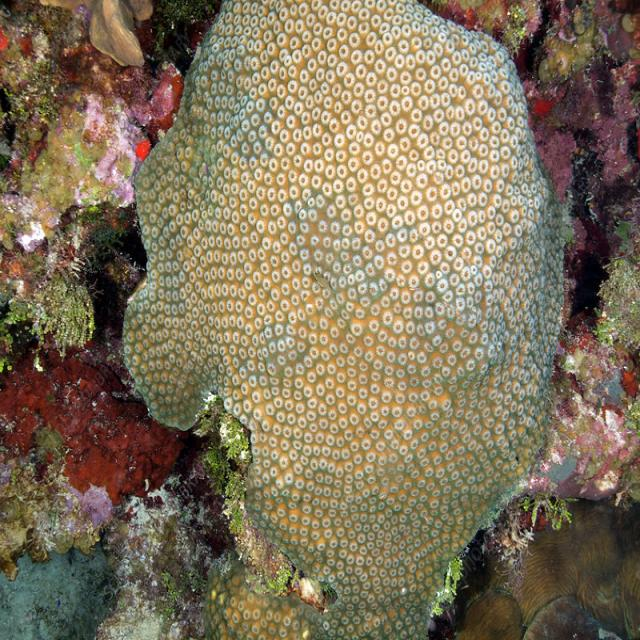Coral: (122, 0, 568, 640)
